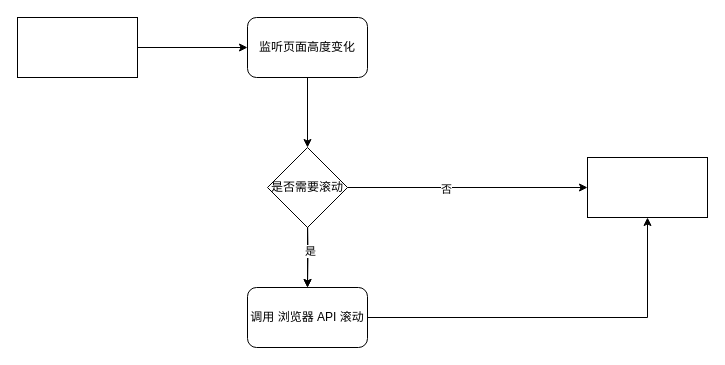
The diagram is 725 pixels wide and 365 high, and some of its shapes have lost their labels. Here are the shapes that lost their labels. From the top down, the centre of each, then its label:
the point at 77,47: 开始
the point at 647,187: 结束
